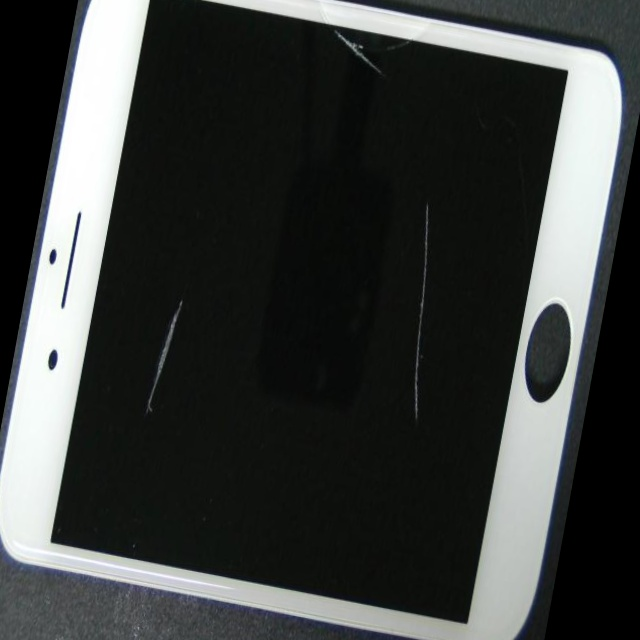scratch: (218, 304, 594, 580), (37, 221, 264, 608), (255, 0, 518, 112)
